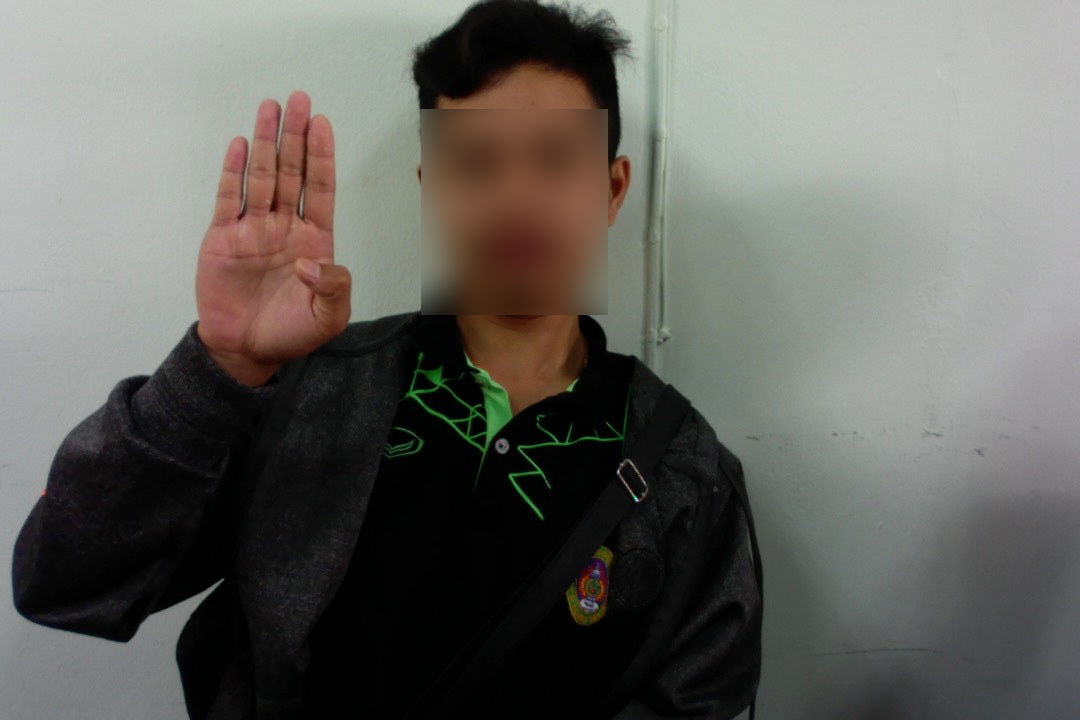bor: (190, 85, 359, 377)
